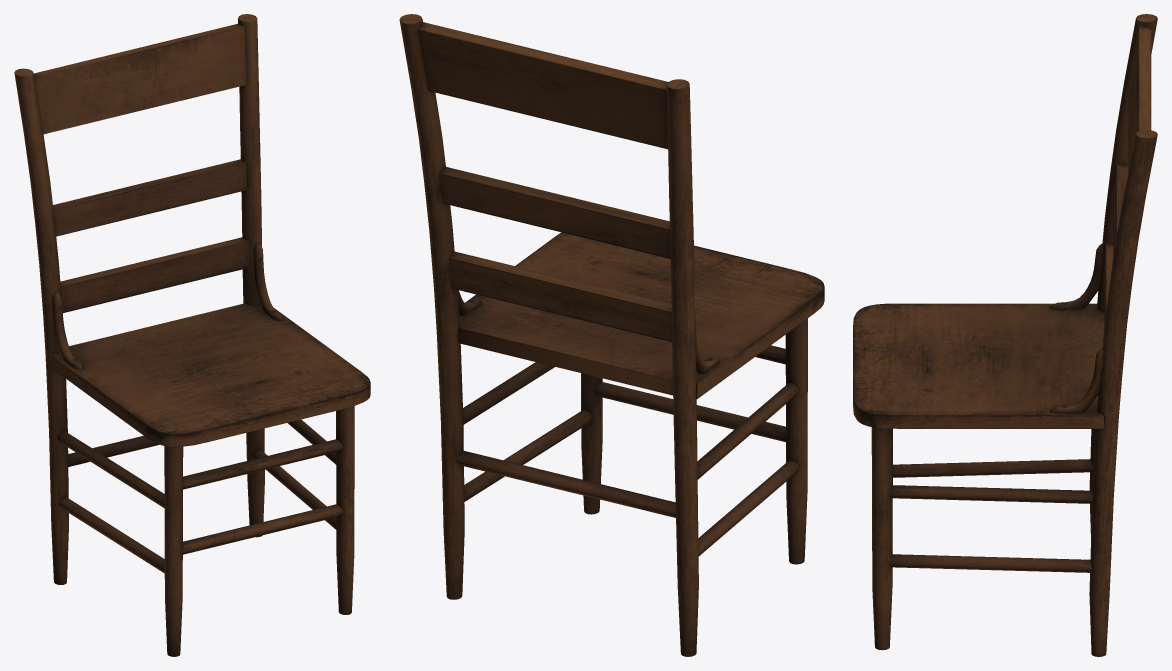
File: chair.glb
3 renders of one model, left to right at view 1: azimuth 30°, elevation 25°; view 2: azimuth 150°, elevation 25°; view 3: azimuth 270°, elevation 25°, orthographic. The views are drawn at different scales.
Parts seen in each view (by area): view 1: chair; view 2: chair; view 3: chair.
Boxes of the visible parts, x1,y1,x2,y2 form: chair: (14, 14, 370, 656); chair: (399, 14, 824, 656); chair: (853, 14, 1157, 656).
Size of the model in its own units: 0.5435 by 1.07 by 0.5628.
1 material, 1 textured.
